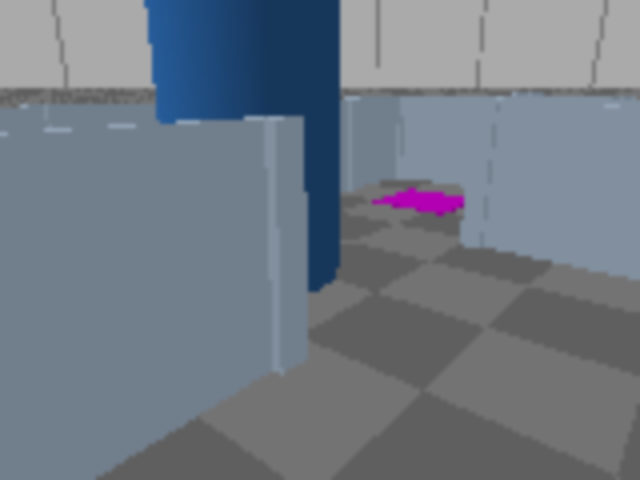goal_zone: (372, 189, 476, 215)
